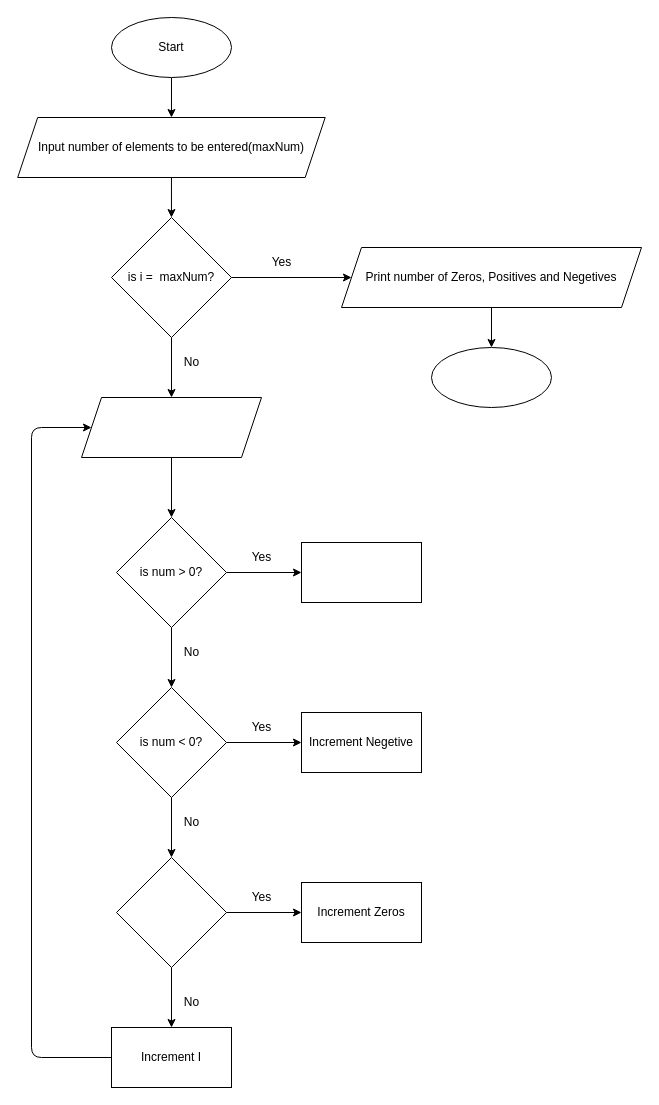
Image size: 659x1105. Some labels were removed from this diagram. Each missing label, with the centre of its shape:
"End" belongs at (491,377).
"Increment Positive" belongs at (361,572).
"Input num" belongs at (171,427).
"is num = 0?" belongs at (171,912).
